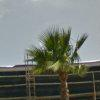Palm tree: (33, 22, 94, 99)
